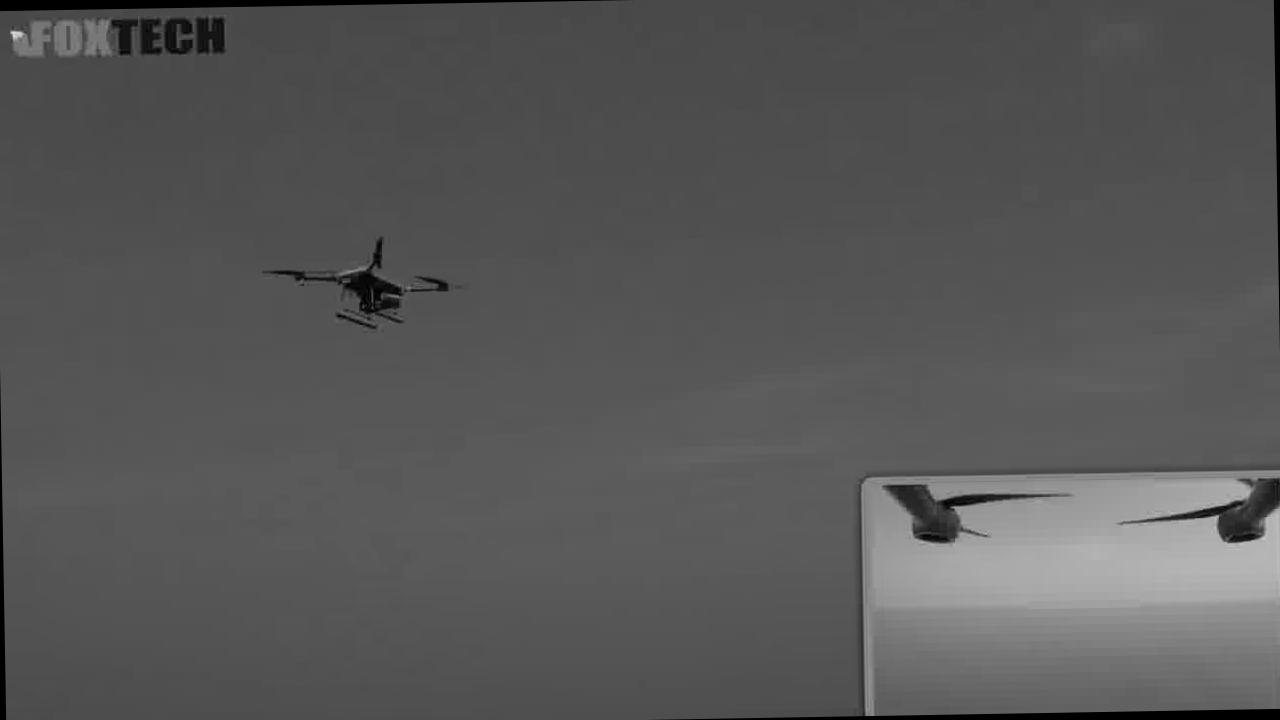drone: (274, 234, 452, 334)
